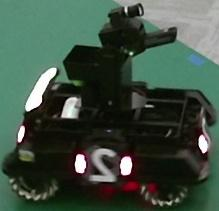armor_2: (75, 154, 132, 176)
light: (25, 67, 58, 111)
right_2: (86, 145, 121, 183)
